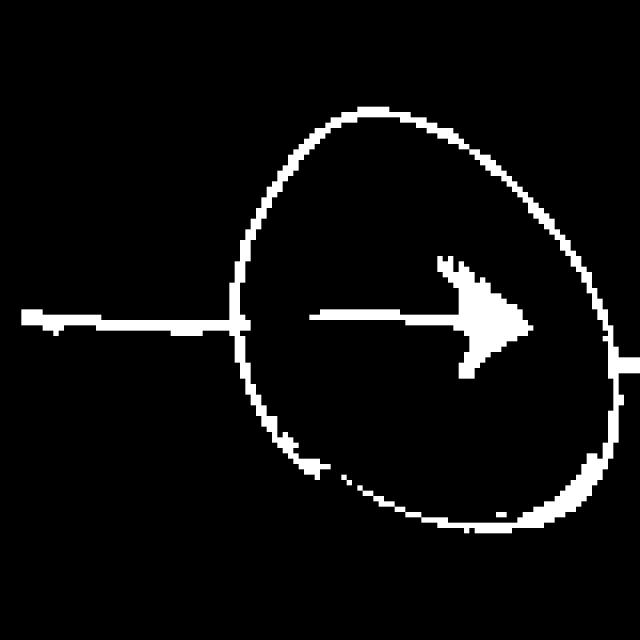current_source: (218, 85, 640, 559)
